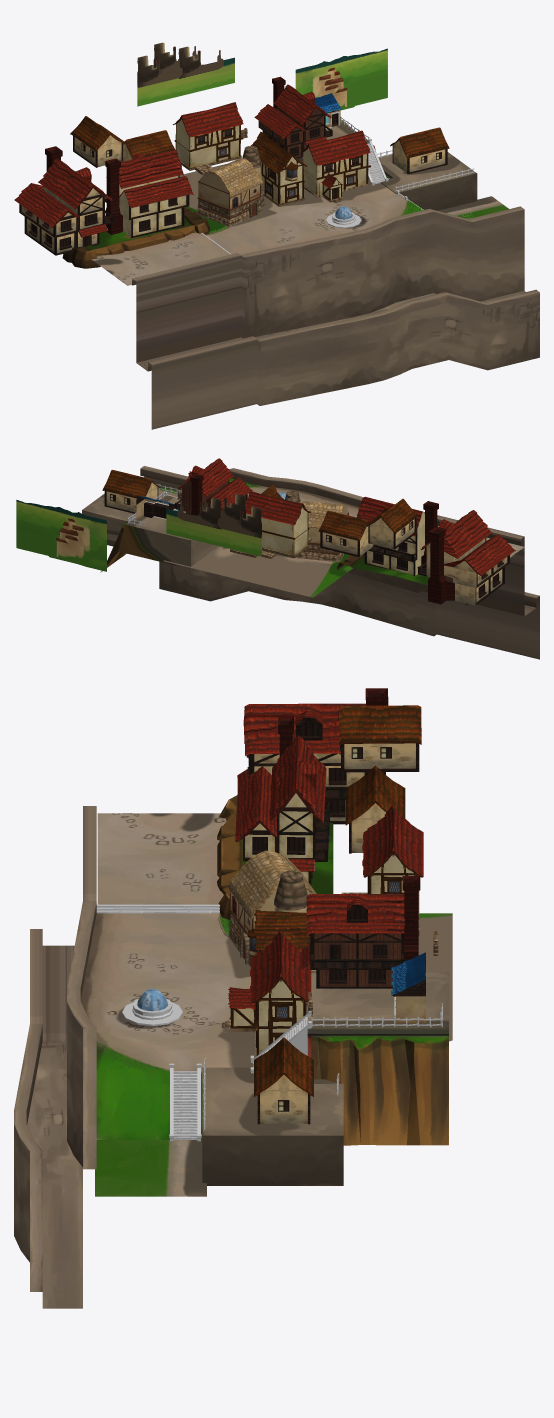
Rendered from t1_castleRoad1.fbx.
The picture shows the model from 3 angles, top to bottom: view 1: azimuth 30°, elevation 25°; view 2: azimuth 150°, elevation 25°; view 3: azimuth 270°, elevation 25°; orthographic projection. The views are drawn at different scales.
Parts seen in each view (by area): view 1: Plane.001, Plane.002, Plane.005, Plane.003, Plane.011, Plane.000, Plane.004, Plane.006; view 2: Plane.001, Plane.002, Plane.005, Plane.003, Plane.000, Plane.011; view 3: Plane.001, Plane.003, Plane.002, Plane.005, Plane.004, Plane.006.
Boxes of the visible parts, x1,y1,x2,y2 form: Plane.001: (91,164,539,429); Plane.002: (21,93,449,253); Plane.005: (14,76,332,255); Plane.003: (62,120,508,268); Plane.011: (137,42,234,106); Plane.000: (295,48,387,110); Plane.004: (202,111,416,254); Plane.006: (340,116,474,192); Plane.001: (140,466,539,659); Plane.002: (102,470,507,605); Plane.005: (175,458,515,604); Plane.003: (82,487,467,605); Plane.000: (16,500,106,571); Plane.011: (166,494,261,556); Plane.001: (14,806,452,1308); Plane.003: (95,795,448,1196); Plane.002: (222,705,438,1124); Plane.005: (235,688,420,988); Plane.004: (96,904,395,1141); Plane.006: (203,1003,443,1131).
Size of the model in its own units: 8033 by 4853 by 4959.
